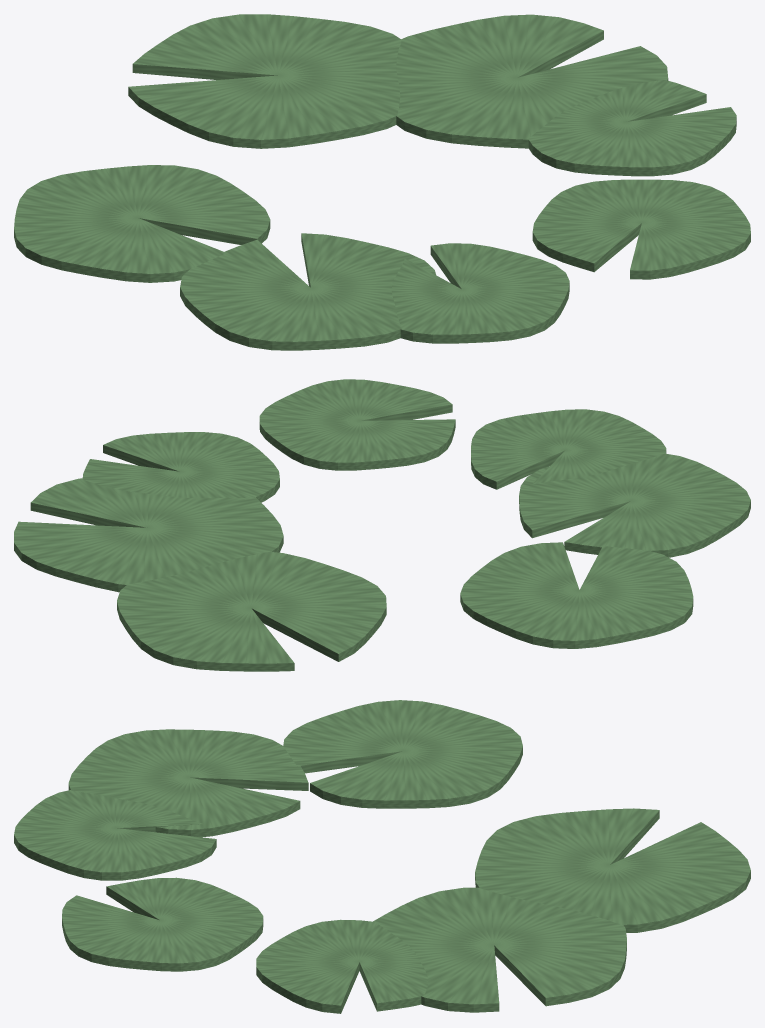
The model's file is lily_pad_cluster_swamp_and_mangrove_22622.glb.
3 views of the same model, one above another, from view 1: azimuth 30°, elevation 25°; view 2: azimuth 150°, elevation 25°; view 3: azimuth 270°, elevation 25° (orthographic). The views are drawn at different scales.
Parts seen in each view (by area): view 1: lily-pads; view 2: lily-pads; view 3: lily-pads.
Part boxes in pixels (x1,y1,x2,y2): lily-pads: [14, 14, 750, 350]; lily-pads: [14, 379, 750, 671]; lily-pads: [14, 700, 750, 1013].
Bounding box in the file's own units: 1.58 × 0.022 × 1.61.
Materials: 1 (1 with a texture image).
